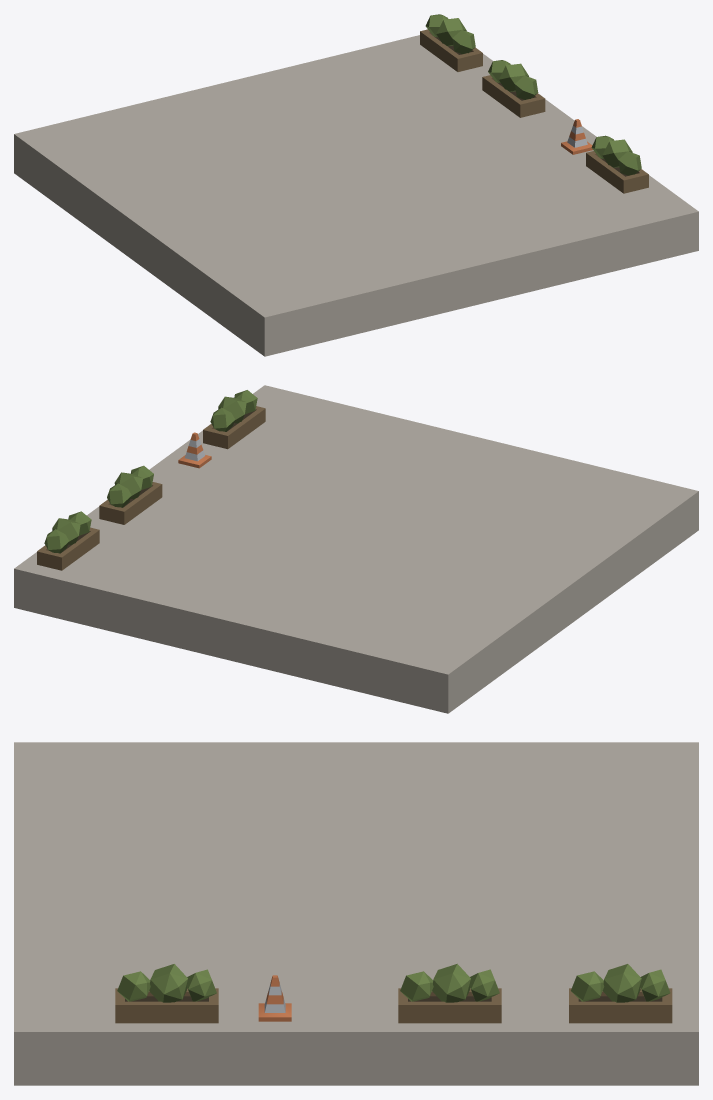
File: Scene-Decorate_D-Decorate_D.glb
The picture shows the model from 3 angles, top to bottom: view 1: azimuth 30°, elevation 25°; view 2: azimuth 150°, elevation 25°; view 3: azimuth 270°, elevation 25°; orthographic projection. The views are drawn at different scales.
Parts seen in each view (by area): view 1: Scene-Decorate_D-Decorate_D; view 2: Scene-Decorate_D-Decorate_D; view 3: Scene-Decorate_D-Decorate_D.
Part boxes in pixels (x1,y1,x2,y2): Scene-Decorate_D-Decorate_D: (14,14,698,356); Scene-Decorate_D-Decorate_D: (14,385,698,713); Scene-Decorate_D-Decorate_D: (14,742,698,1085).
Size of the model in its own units: 10 by 1.63 by 10.
Materials: 1 (1 with a texture image).
